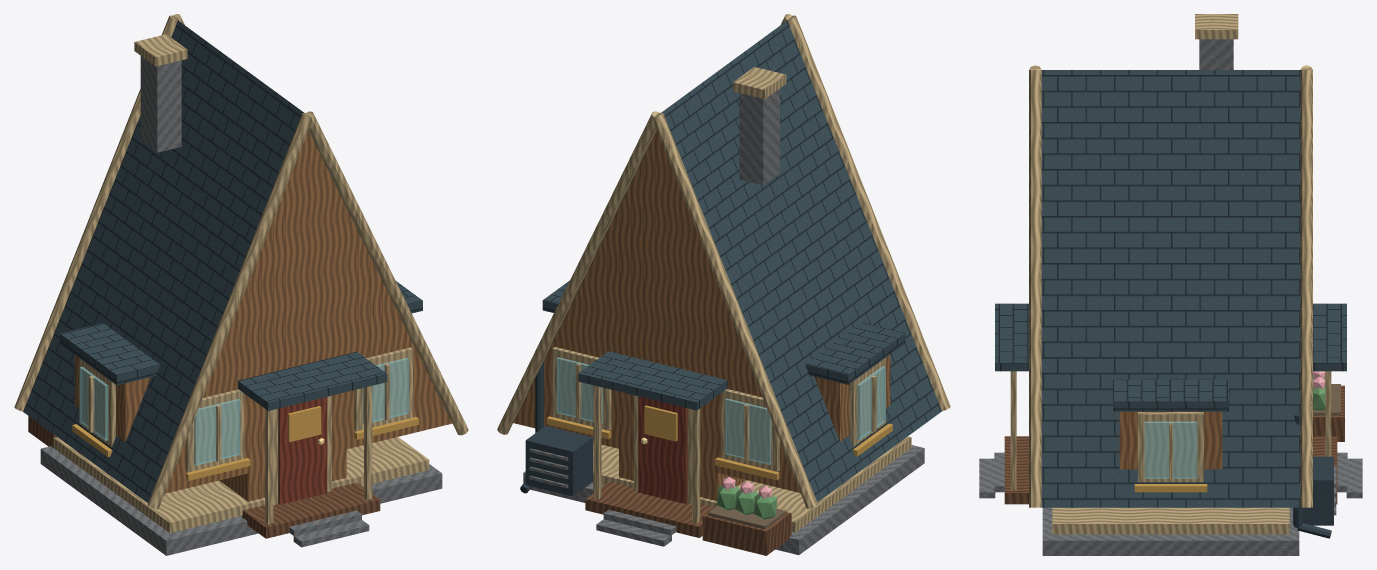
Rendered from house_aframe_lv3.glb.
3 views of the same model, side by side, from view 1: azimuth 30°, elevation 25°; view 2: azimuth 150°, elevation 25°; view 3: azimuth 270°, elevation 25° (orthographic). The views are drawn at different scales.
Visible parts, largest first — view 1: steep_roof, a_frame_gables, floor_trim, foundation, walls, a_frame_edge, front_porch_canopy, a_frame_edge.002, front_door, a_frame_edge.001, chimney, front_window_frame (+16 smaller); view 2: steep_roof, a_frame_gables, walls, a_frame_edge.001, back_porch_canopy, a_frame_edge, a_frame_edge.003, foundation, back_door, floor_trim, chimney, back_ac_unit (+20 smaller); view 3: steep_roof.001, floor_trim, foundation, a_frame_edge.002, a_frame_edge.003, right_window_frame, right_dormer_cap, right_window_glass, back_porch_canopy, front_porch_canopy, right_dormer, back_ac_unit (+10 smaller).
Part boxes in pixels (left/top/right/bottom): steep_roof: left=23, top=20, right=304, bottom=502; a_frame_gables: left=165, top=131, right=451, bottom=493; floor_trim: left=53, top=437, right=429, bottom=532; foundation: left=40, top=446, right=442, bottom=555; walls: left=219, top=283, right=346, bottom=501; a_frame_edge: left=147, top=113, right=310, bottom=509; front_porch_canopy: left=238, top=351, right=387, bottom=410; a_frame_edge.002: left=305, top=111, right=468, bottom=435; front_door: left=278, top=397, right=327, bottom=504; a_frame_edge.001: left=14, top=15, right=177, bottom=411; chimney: left=140, top=56, right=181, bottom=152; front_window_frame: left=185, top=389, right=244, bottom=472; steep_roof: left=661, top=20, right=941, bottom=502; a_frame_gables: left=513, top=131, right=800, bottom=492; walls: left=619, top=282, right=745, bottom=500; a_frame_edge.001: left=654, top=113, right=817, bottom=508; back_porch_canopy: left=578, top=351, right=727, bottom=410; a_frame_edge: left=787, top=15, right=950, bottom=411; a_frame_edge.003: left=497, top=111, right=660, bottom=434; foundation: left=523, top=445, right=924, bottom=554; back_door: left=638, top=396, right=687, bottom=503; floor_trim: left=592, top=436, right=911, bottom=532; chimney: left=739, top=88, right=779, bottom=185; back_ac_unit: left=525, top=426, right=592, bottom=496; steep_roof.001: left=1041, top=70, right=1300, bottom=507; floor_trim: left=1052, top=507, right=1289, bottom=534; foundation: left=1042, top=507, right=1299, bottom=555; a_frame_edge.002: left=1029, top=70, right=1041, bottom=507; a_frame_edge.003: left=1300, top=70, right=1312, bottom=507; right_window_frame: left=1138, top=412, right=1203, bottom=482; right_dormer_cap: left=1113, top=379, right=1228, bottom=411; right_window_glass: left=1144, top=421, right=1197, bottom=478; back_porch_canopy: left=1313, top=303, right=1346, bottom=371; front_porch_canopy: left=995, top=303, right=1028, bottom=371; right_dormer: left=1119, top=411, right=1222, bottom=469; back_ac_unit: left=1293, top=456, right=1333, bottom=525.
Size of the model in its own units: 3.3 by 4.22 by 3.36.
Materials: 13 (7 with a texture image).
